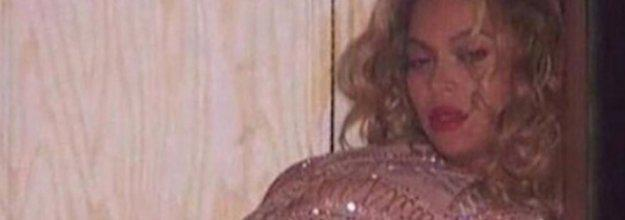Drunk: (406, 3, 517, 154)
